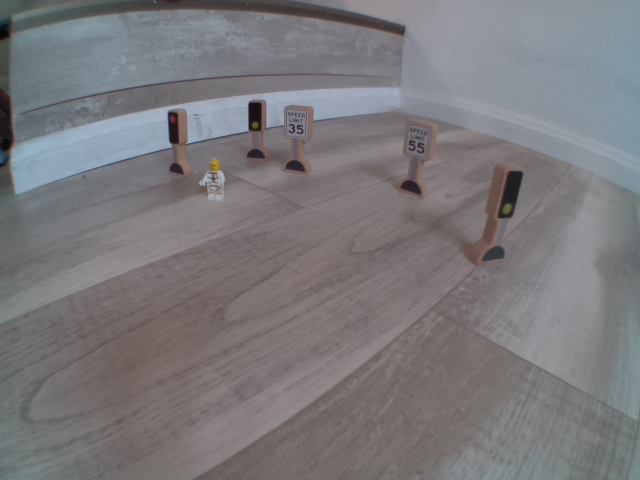Green Traffic Light: (493, 164, 520, 220), (246, 99, 264, 134)
Red Traffic Light: (166, 111, 181, 147)
Speed Limit 35: (281, 105, 309, 142)
Speed Limit 55: (404, 116, 432, 162)
person: (198, 153, 232, 207)
